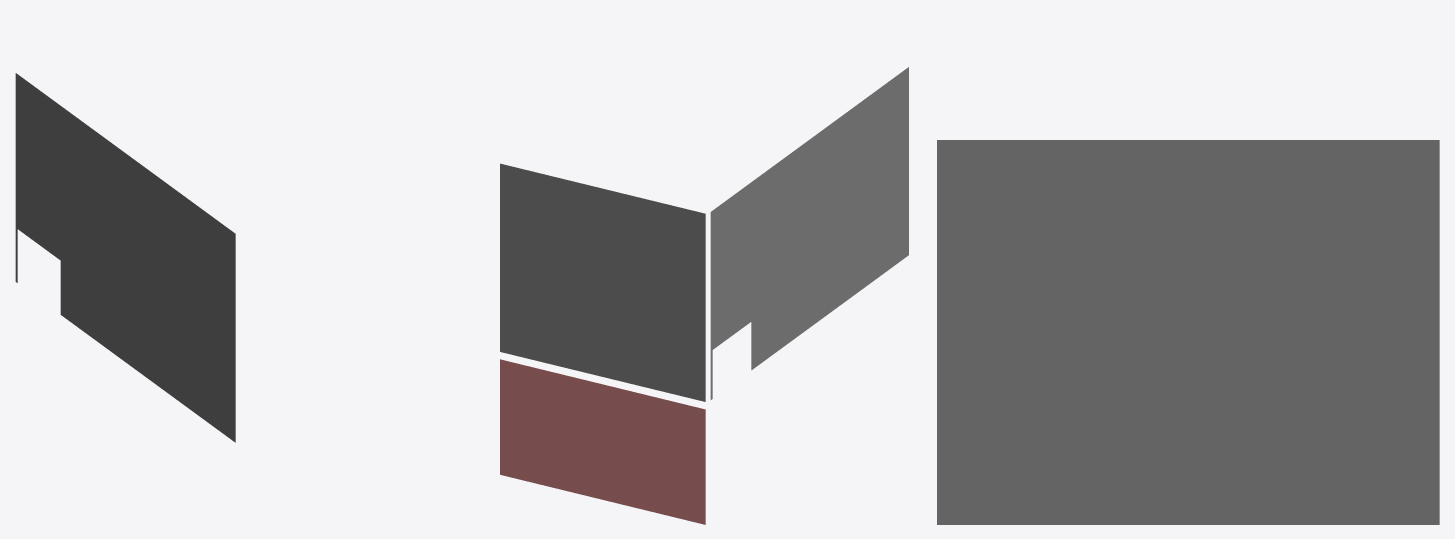
Rendered from S_Envi_Fyz_Building_112m.gltf.
The picture shows the model from 3 angles, left to right: view 1: azimuth 30°, elevation 25°; view 2: azimuth 150°, elevation 25°; view 3: azimuth 270°, elevation 25°; orthographic projection. The views are drawn at different scales.
Parts seen in each view (by area): view 1: S_Envi_Fyz_Building_112m; view 2: S_Envi_Fyz_Building_112m; view 3: S_Envi_Fyz_Building_112m.
Boxes of the visible parts, bbox=[...] form: S_Envi_Fyz_Building_112m: bbox=[15, 73, 235, 442]; S_Envi_Fyz_Building_112m: bbox=[500, 67, 908, 524]; S_Envi_Fyz_Building_112m: bbox=[937, 140, 1439, 524].
Size of the model in its own units: 10.06 by 14.32 by 16.99.
